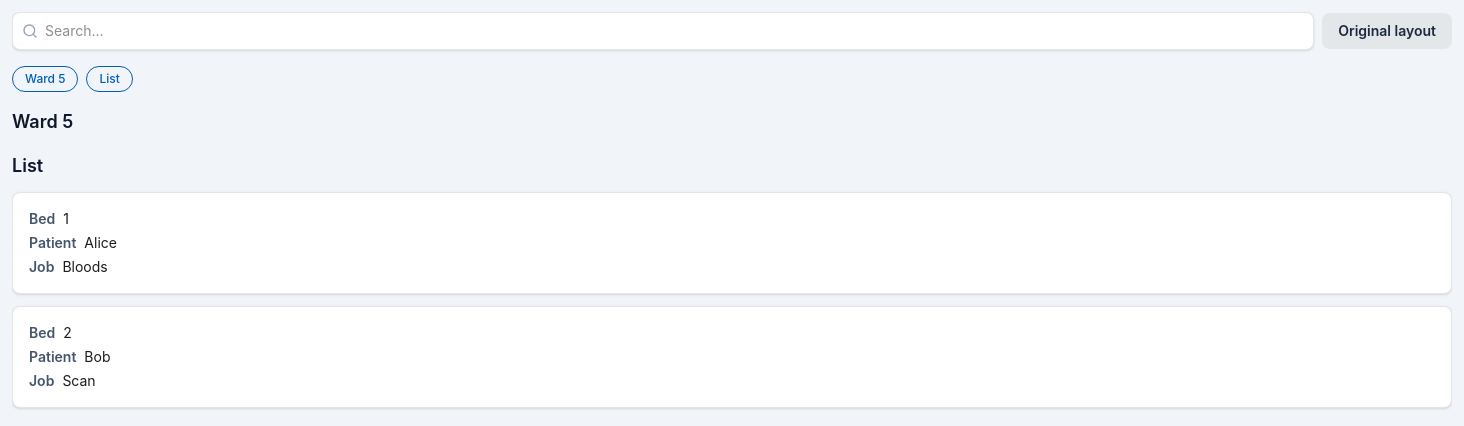
MobileView › filters cards by search text
This screenshot has width=1464, height=426.
Type "Alice" into the search field at (663, 31), box [12,12,1314,50]
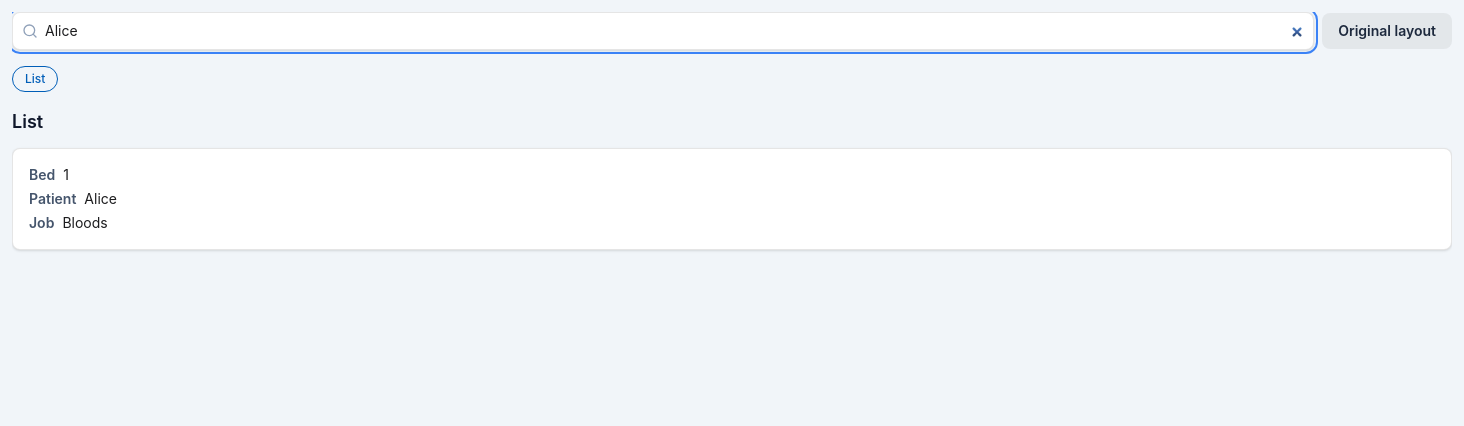
Expected: the text "Alice" is shown, [84,189,117,209]
Expected: the text "Bob" is gone
